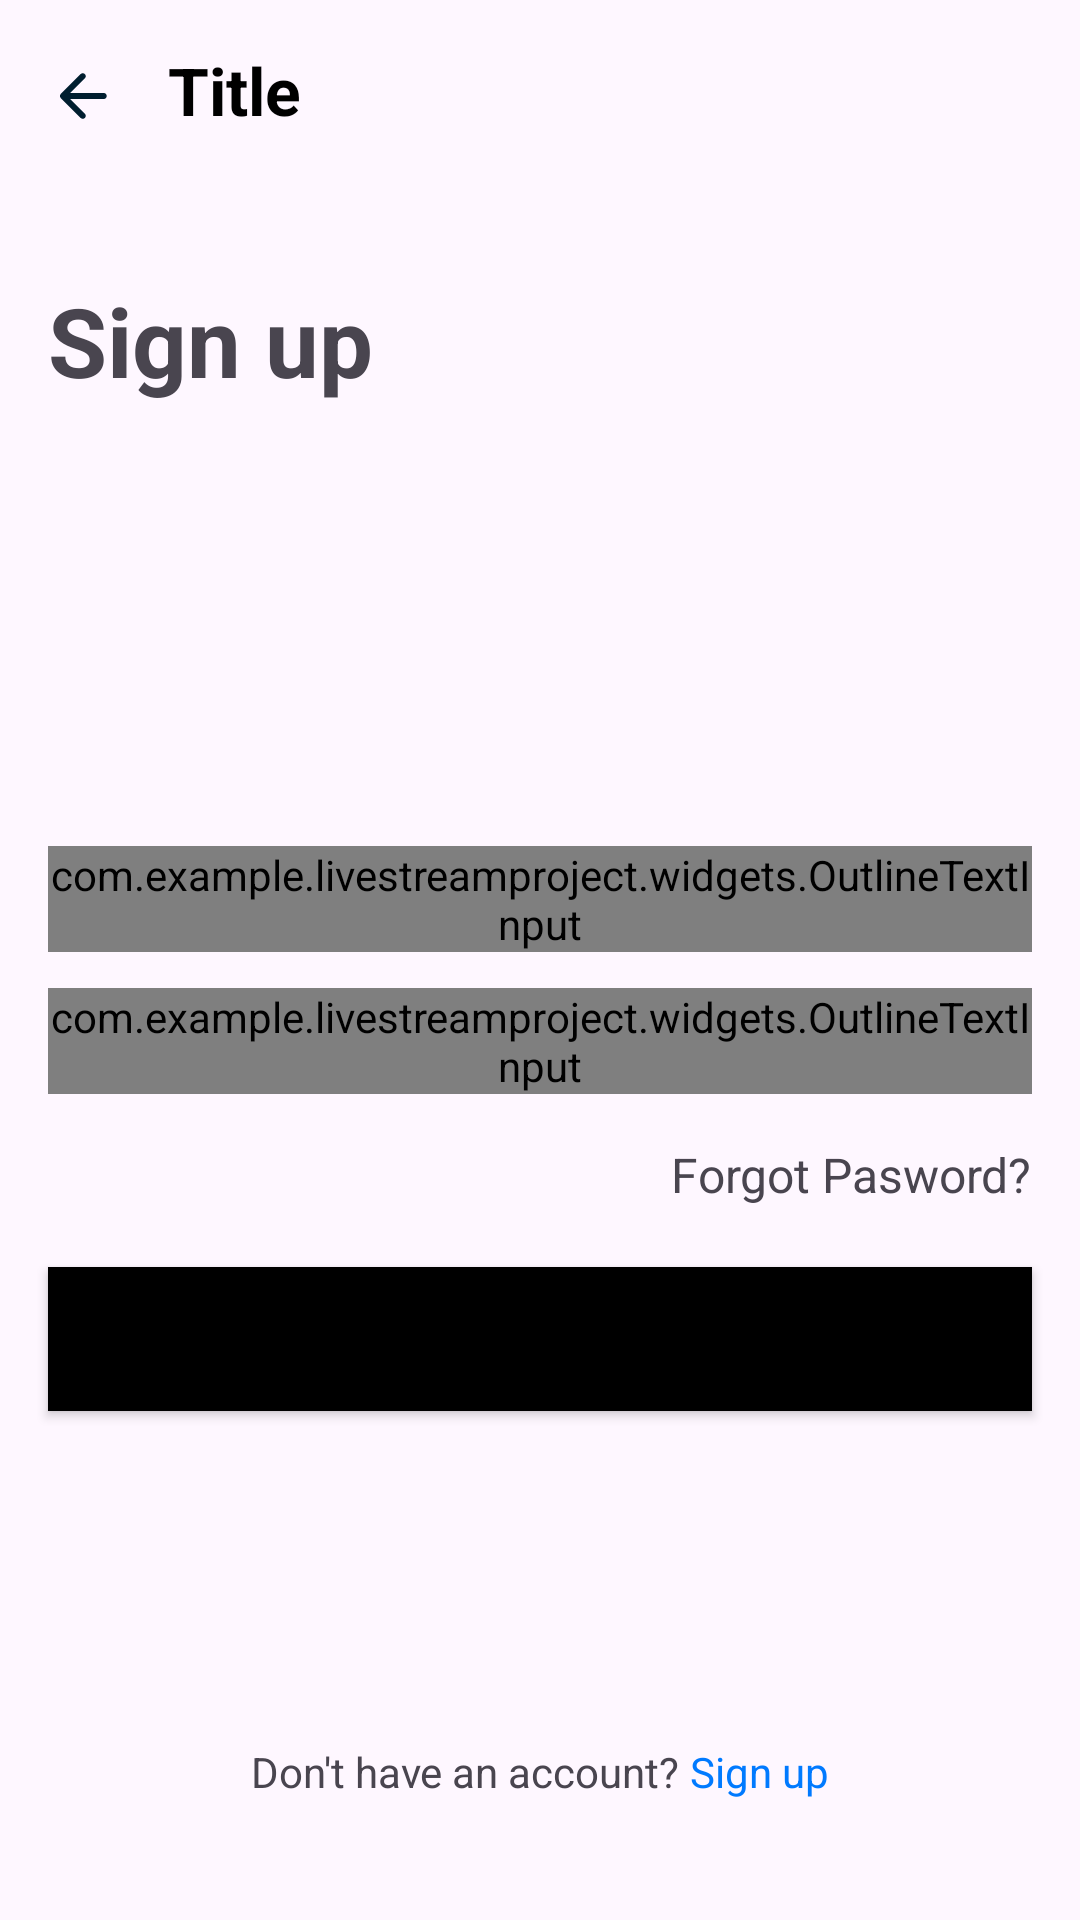

Where to tap for icons on this 1080×1920 app screen, as (x=x, y=y):
back: (x=83, y=96)
